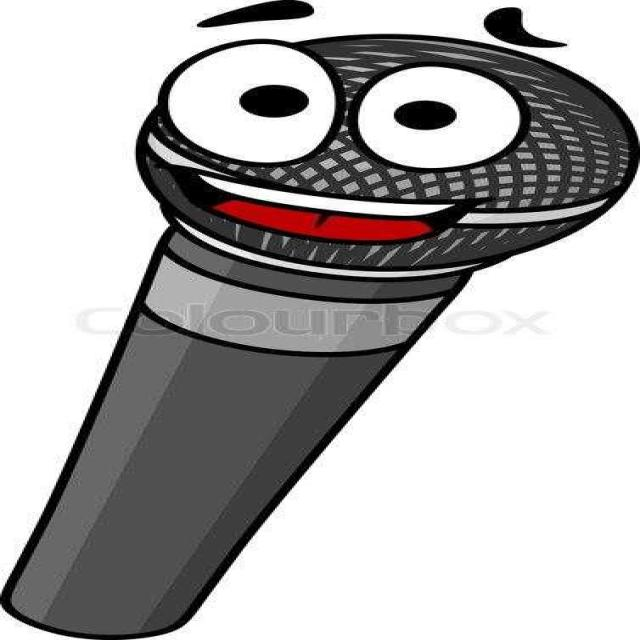microphone: (47, 51, 553, 637)
